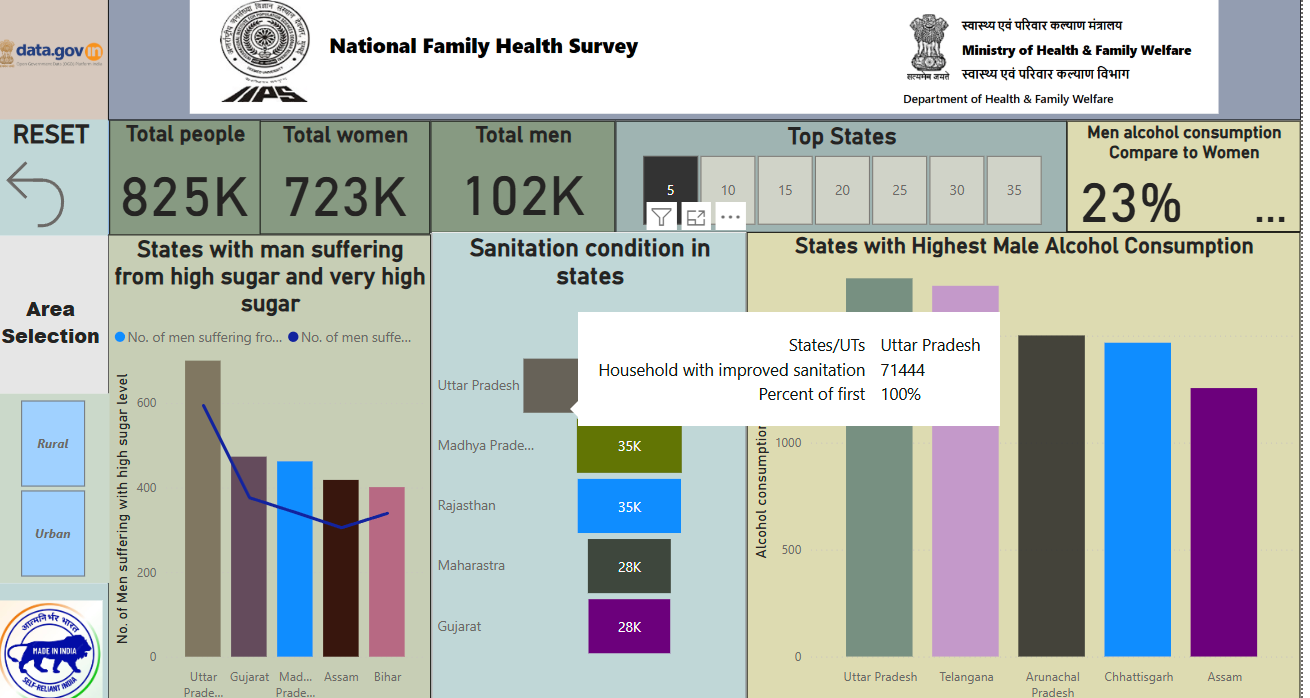

What the dashboard file says about the page in this screenshot:
{"tool":"powerbi","page":{"name":"Report 1","canvas":[1280,720],"ordinal":0},"visuals":[{"type":"shape","box":[1.2,0,111.8,721.1],"z":0},{"type":"card","title":"Total women","fields":{"Values":["Sum(healthcare_project_dataset.Women)"]},"box":[261,130.5,167.6,111.2],"z":1000},{"type":"card","title":"Total men","fields":{"Values":["Sum(healthcare_project_dataset.Men)"]},"box":[428.6,130.5,180.9,109.7],"z":2000},{"type":"card","title":"Total people","fields":{"Values":["Sum(healthcare_project_dataset.Total people)"]},"box":[113.7,129.6,148,111.3],"z":3000},{"type":"slicer","title":"Top States","fields":{"Values":["TopN.TopN"]},"box":[609.5,130.5,441.9,109.7],"z":4000},{"type":"lineClusteredColumnComboChart","title":"States with man suffering from high sugar and very high sugar","fields":{"Y":["healthcare_project_dataset.high sugar men"],"Category":["healthcare_project_dataset.States/UTs"],"Y2":["healthcare_project_dataset.very high sugar men"]},"box":[112.7,241.7,315.9,479],"z":5000},{"type":"image","box":[0,0,112.7,130.5],"z":6000},{"type":"image","box":[112.7,0,1167,130.5],"z":7000},{"type":"image","box":[0,583.3,112.5,137],"z":8000},{"type":"slicer","fields":{"Values":["healthcare_project_dataset.Area"]},"box":[1.2,397.4,112.5,185.9],"z":9000},{"type":"textbox","box":[0,243.3,112.5,154.1],"z":10000},{"type":"funnel","title":"Sanitation condition in states","fields":{"Category":["healthcare_project_dataset.States/UTs"],"Y":["healthcare_project_dataset.sanitation"]},"box":[428.7,239.5,308.3,481.5],"z":11000},{"type":"clusteredColumnChart","title":"States with Highest Male Alcohol Consumption","fields":{"Category":["healthcare_project_dataset.States/UTs"],"Y":["healthcare_project_dataset.men alcohol"]},"box":[737,239.5,541.7,481.5],"z":12000},{"type":"actionButton","title":"RESET","box":[1.2,130,111.2,113.8],"z":14000},{"type":"card","title":"Men alcohol consumption Compare to Women","fields":{"Values":["healthcare_project_dataset.Alcohol_Consumption_Men_vs_Women"]},"box":[1050.4,130.8,228.7,111.3],"z":15000}]}

Visuals, with their boxes on the page's 1280x720 design canvas (x1, y1, x2, y2). These are canvas units, not pixel positions in the 1310x698 screenshot, which may show the page scaled, cropped or inside an application window:
shape: <bbox>1, 0, 113, 721</bbox>
"Total women" card: <bbox>261, 130, 429, 242</bbox>
"Total men" card: <bbox>429, 130, 610, 240</bbox>
"Total people" card: <bbox>114, 130, 262, 241</bbox>
"Top States" slicer: <bbox>610, 130, 1051, 240</bbox>
"States with man suffering from high sugar and very high sugar" lineClusteredColumnComboChart: <bbox>113, 242, 429, 721</bbox>
image: <bbox>0, 0, 113, 130</bbox>
image: <bbox>113, 0, 1280, 130</bbox>
image: <bbox>0, 583, 112, 720</bbox>
slicer - healthcare_project_dataset.Area: <bbox>1, 397, 114, 583</bbox>
textbox: <bbox>0, 243, 112, 397</bbox>
"Sanitation condition in states" funnel: <bbox>429, 240, 737, 721</bbox>
"States with Highest Male Alcohol Consumption" clusteredColumnChart: <bbox>737, 240, 1279, 721</bbox>
"RESET" actionButton: <bbox>1, 130, 112, 244</bbox>
"Men alcohol consumption Compare to Women" card: <bbox>1050, 131, 1279, 242</bbox>
